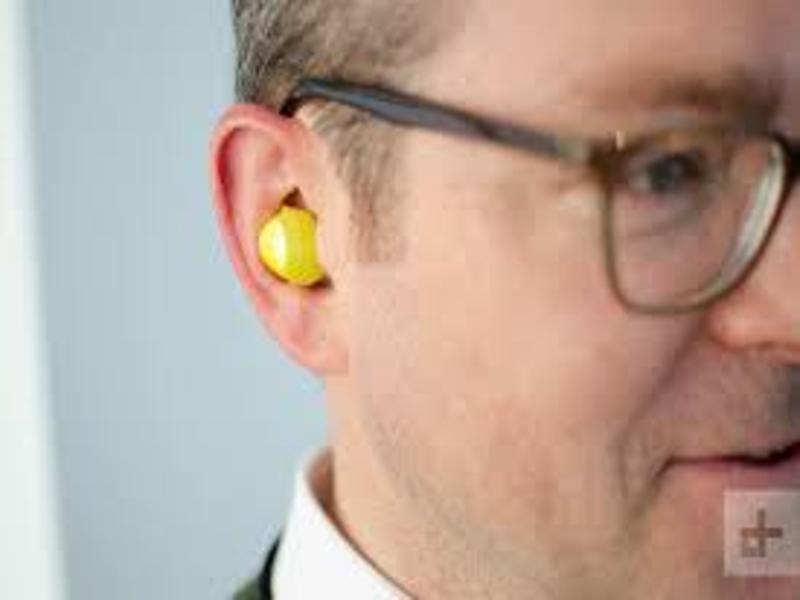headphone: (258, 203, 327, 294)
